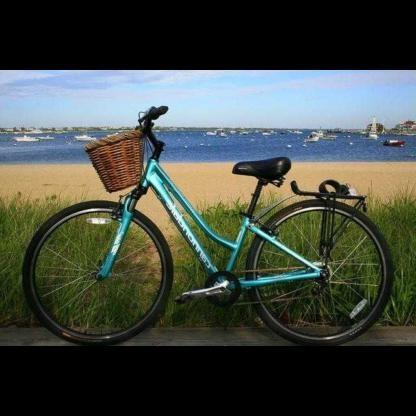Bicycle: (0, 81, 411, 341)
